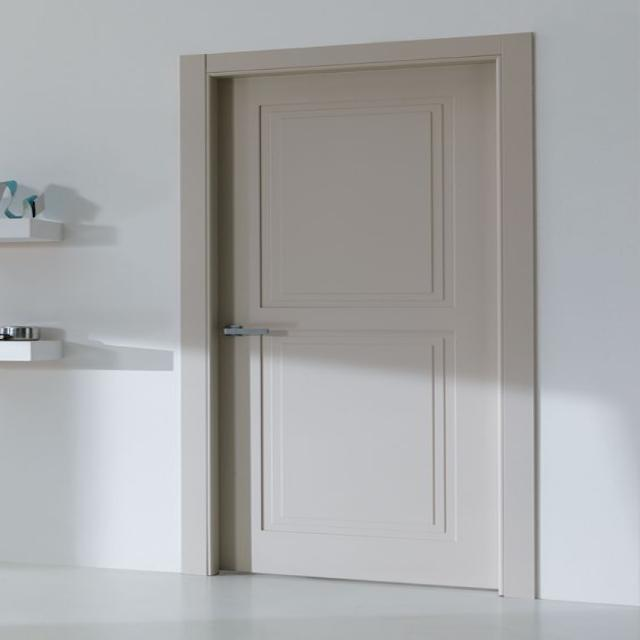door: (208, 42, 512, 592)
